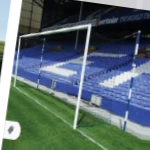goals: (13, 22, 113, 128)
